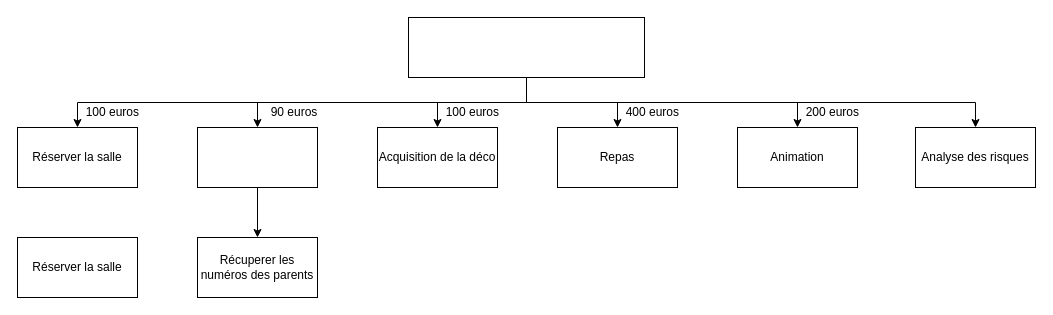
Some shapes in this 1053 by 315 pixel diagram are drawn without their labels. Here are the shapes that lost their labels. From the top down, the box of each, then its label:
(408, 16, 644, 78): Organiser un anniversaire de 20 ans
(196, 126, 318, 188): Inviter les personnes
